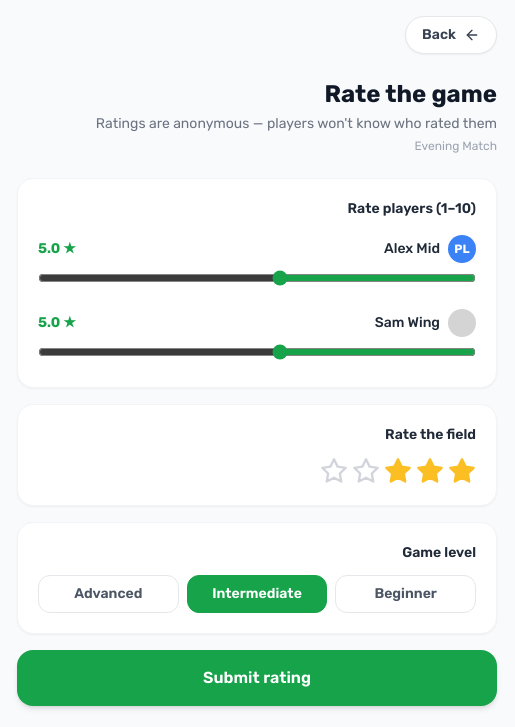
PostGameRating › submits player ratings, field rating, and game level for eligible matches
The width and height of the screenshot is (515, 727).
Check: the heading "Rate the game" is shown, box top-left (324, 80), bottom-right (497, 108)
Set the slider below "Alex Mid" to "7.5" at (351, 278), box top-left (38, 270), bottom-right (476, 286)
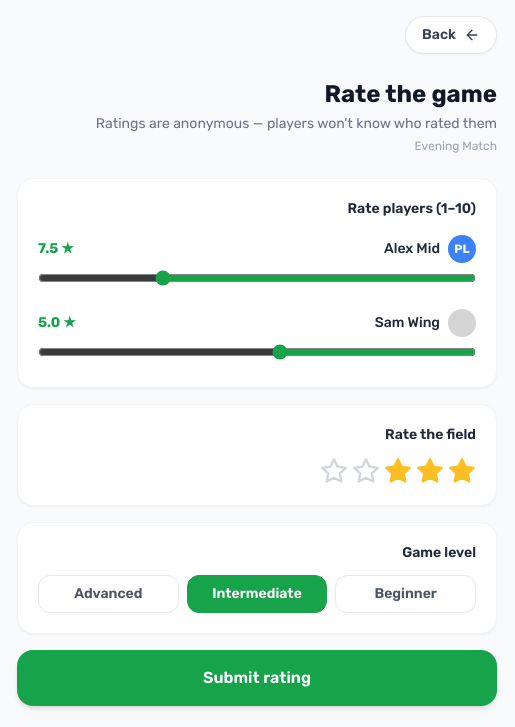
Set the slider below "Sam Wing" to "8.5" at (398, 352), box top-left (38, 344), bottom-right (476, 360)
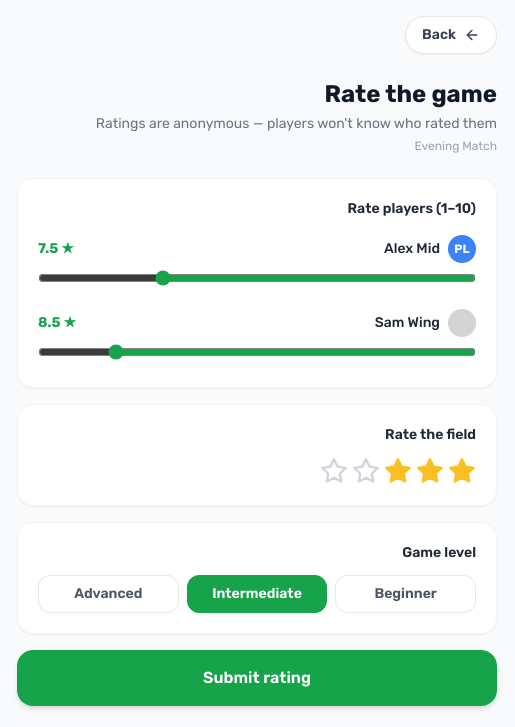
Click the button "Advanced" at (108, 594), box top-left (38, 575), bottom-right (179, 613)
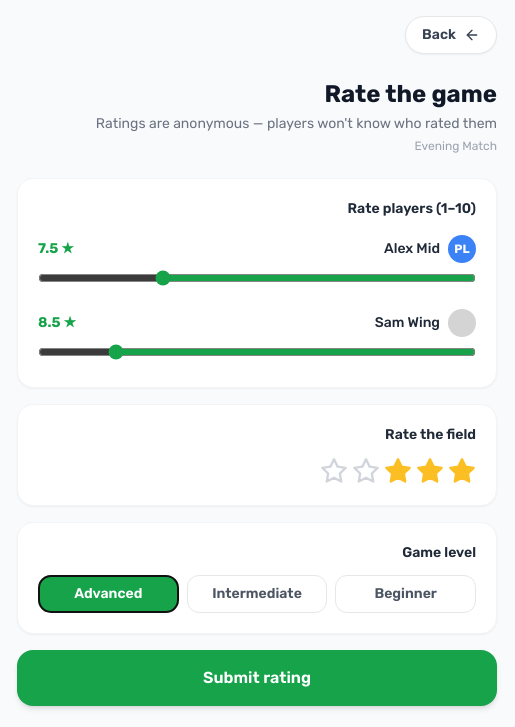
Click the button "Submit rating" at (257, 678), box top-left (17, 650), bottom-right (497, 706)
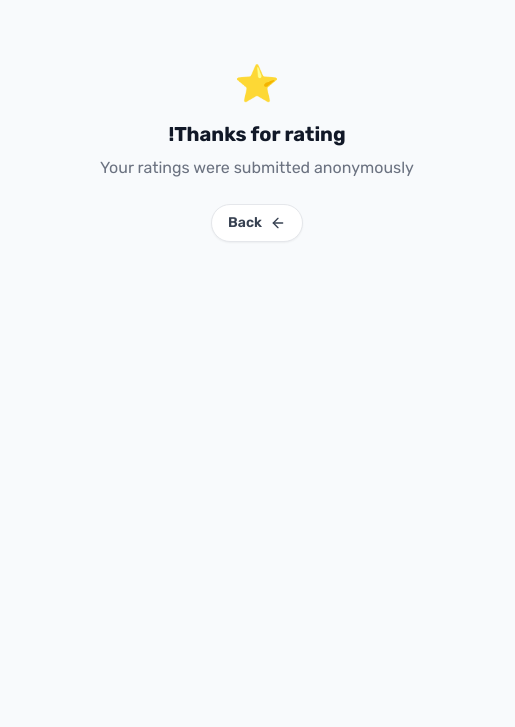
Check: the heading "Thanks for rating!" is shown, box top-left (168, 122), bottom-right (346, 146)
